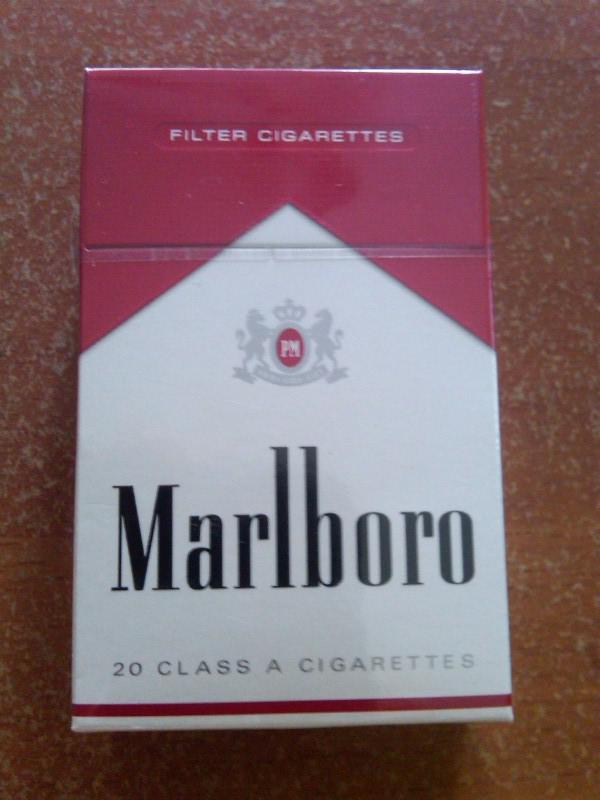marlboro_red: (85, 69, 510, 725)
